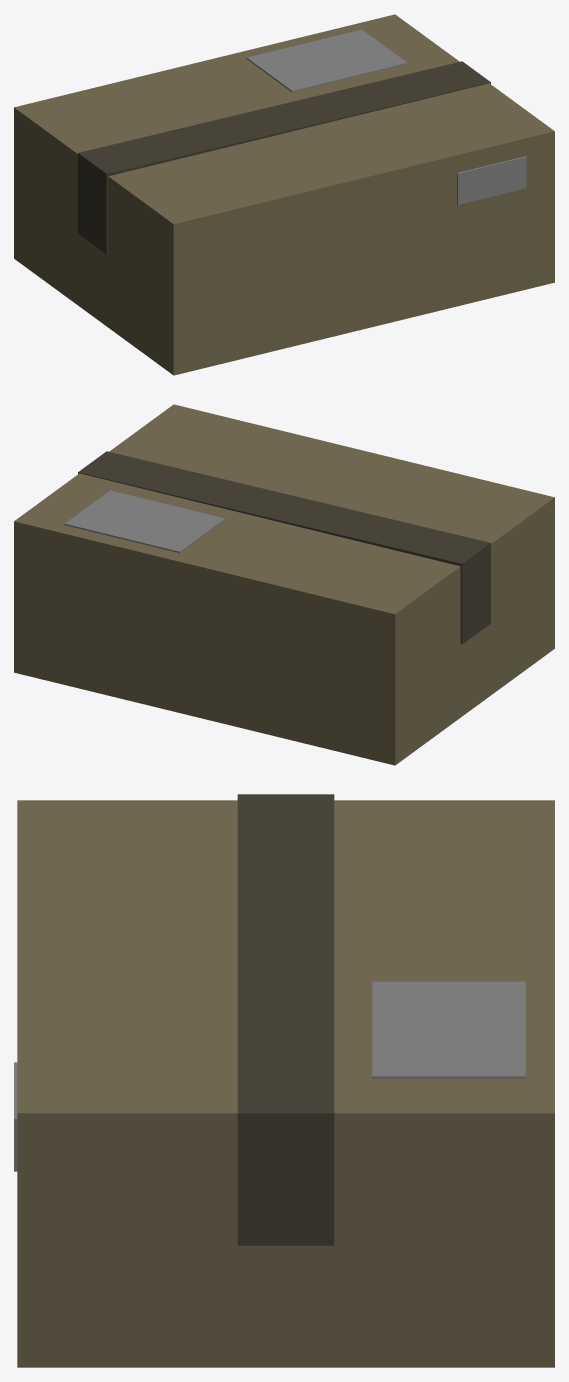
File: deliverybox.fbx
3 renders of one model, top to bottom at view 1: azimuth 30°, elevation 25°; view 2: azimuth 150°, elevation 25°; view 3: azimuth 270°, elevation 25°, orthographic. The views are drawn at different scales.
Parts seen in each view (by area): view 1: deliverybox; view 2: deliverybox; view 3: deliverybox.
Boxes of the visible parts, left/top/right/bottom form: deliverybox: left=14, top=14, right=554, bottom=375; deliverybox: left=14, top=404, right=554, bottom=765; deliverybox: left=14, top=794, right=554, bottom=1367.
Size of the model in its own units: 17.84 by 6.84 by 12.93.
